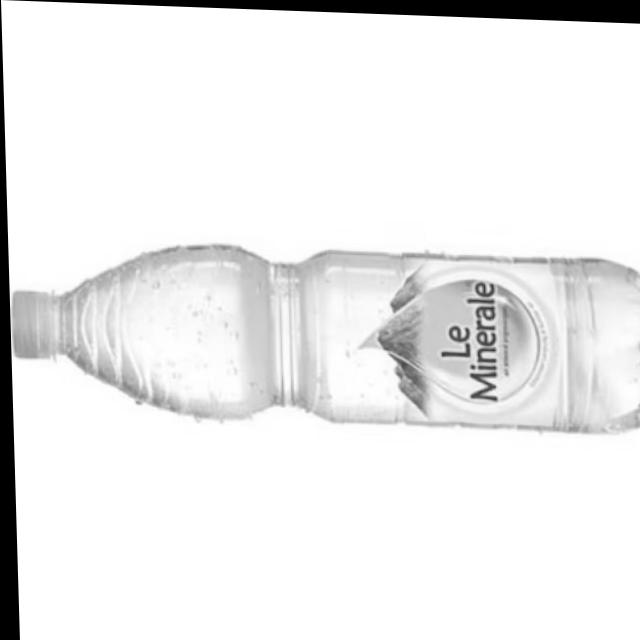bottle: (5, 235, 640, 441)
